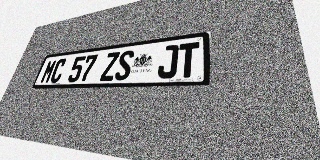5: (67, 56, 86, 82)
7: (78, 54, 98, 82)
C: (49, 58, 67, 83)
J: (157, 44, 179, 79)
M: (39, 59, 58, 84)
S: (114, 50, 135, 81)
T: (177, 42, 199, 78)
Z: (99, 52, 120, 81)
